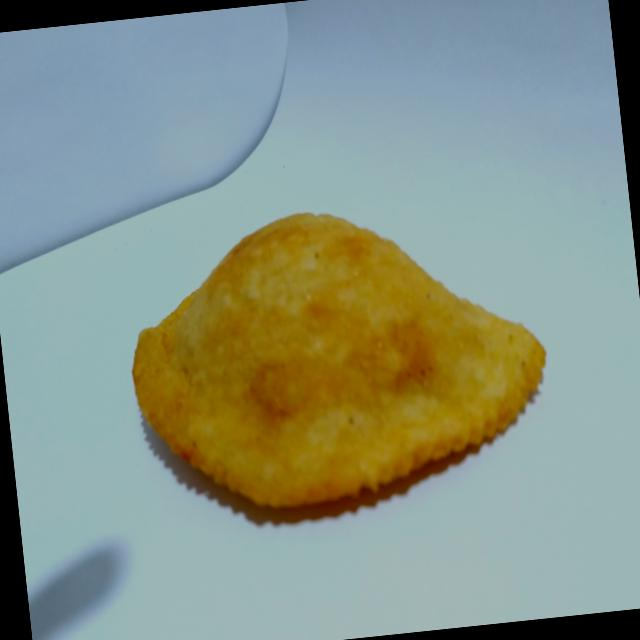Pastel_Mandio: (109, 178, 566, 542)
